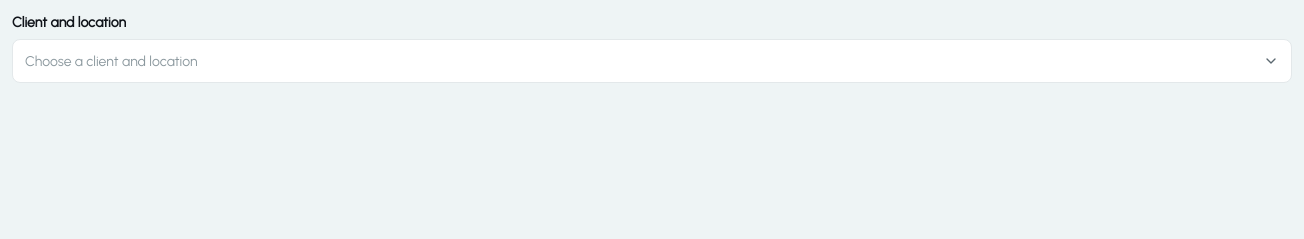
Test case: ClientLocationPicker › explains an empty list
The width and height of the screenshot is (1304, 239).
Click the button "Choose a client and location" at (111, 61), box [12, 39, 1292, 83]
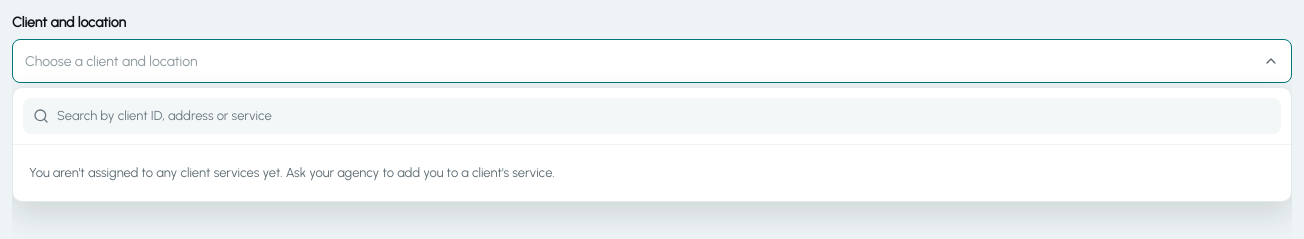
Check: the text "aren't assigned to any client services" is shown, box [29, 165, 555, 180]
